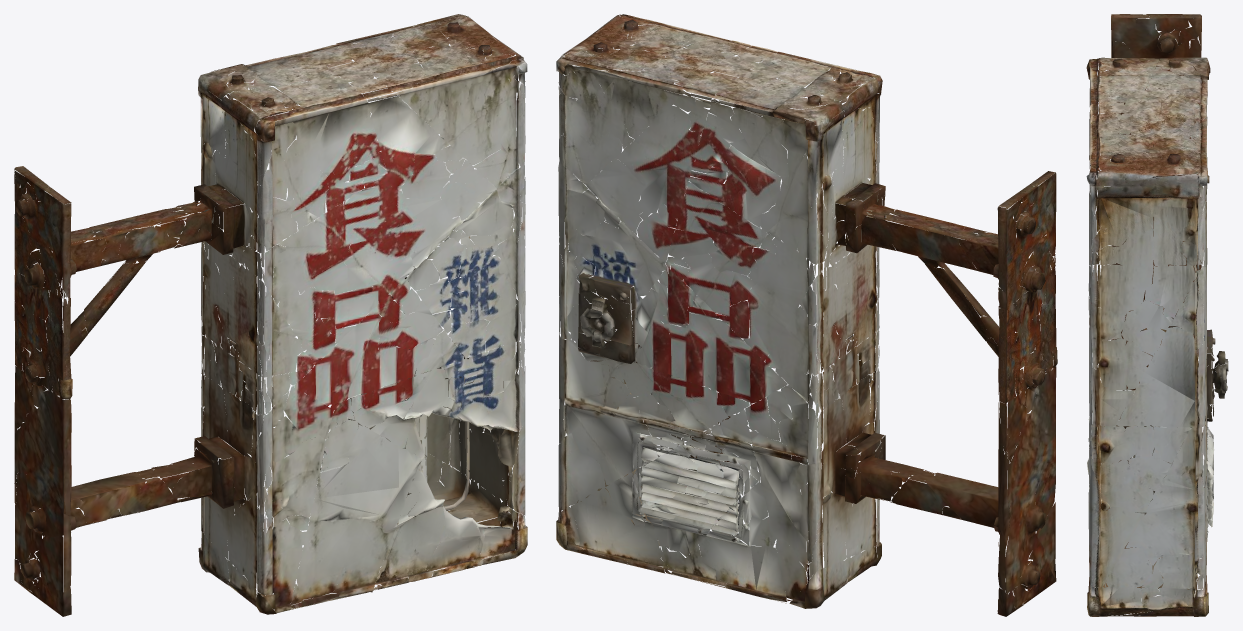
File: m_lightbox_wall.glb
The picture shows the model from 3 angles, left to right: view 1: azimuth 30°, elevation 25°; view 2: azimuth 150°, elevation 25°; view 3: azimuth 270°, elevation 25°; orthographic projection. The views are drawn at different scales.
Visible parts, largest first — view 1: tripo_node_6a4095b4-42d7-4333-8a36-30b5eb83d667; view 2: tripo_node_6a4095b4-42d7-4333-8a36-30b5eb83d667; view 3: tripo_node_6a4095b4-42d7-4333-8a36-30b5eb83d667.
Part boxes in pixels (x1=…): tripo_node_6a4095b4-42d7-4333-8a36-30b5eb83d667: x1=14, y1=14, x2=527, y2=616; tripo_node_6a4095b4-42d7-4333-8a36-30b5eb83d667: x1=556, y1=14, x2=1057, y2=616; tripo_node_6a4095b4-42d7-4333-8a36-30b5eb83d667: x1=1086, y1=14, x2=1228, y2=616.
Size of the model in its own units: 1.25 by 1.3 by 0.3679.
1 material, 1 textured.
